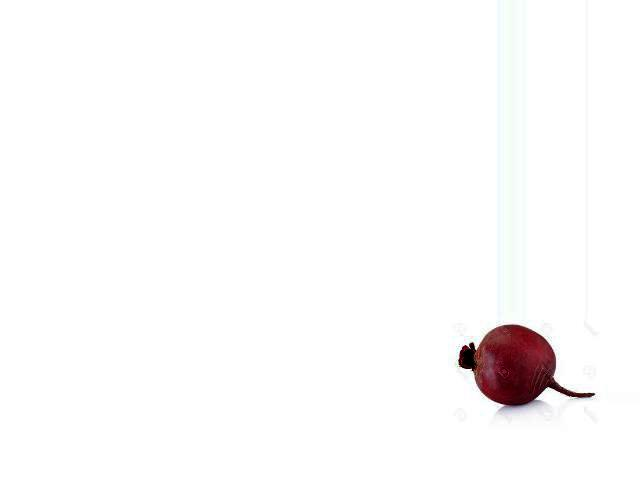beet: (459, 325, 594, 405)
